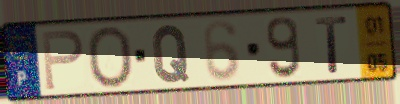6: (201, 18, 243, 84)
9: (264, 15, 303, 81)
O: (85, 24, 136, 90)
P: (39, 28, 86, 92)
Q: (151, 23, 192, 85)
T: (313, 14, 350, 75)
